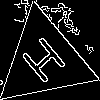H: (19, 35, 74, 93)
